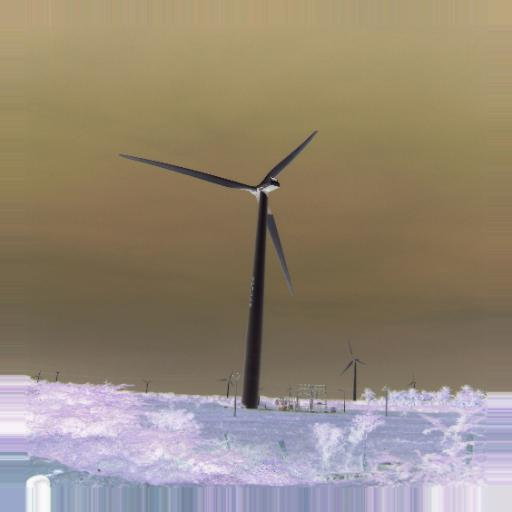wind turbine: (118, 130, 318, 408), (340, 338, 370, 404)
